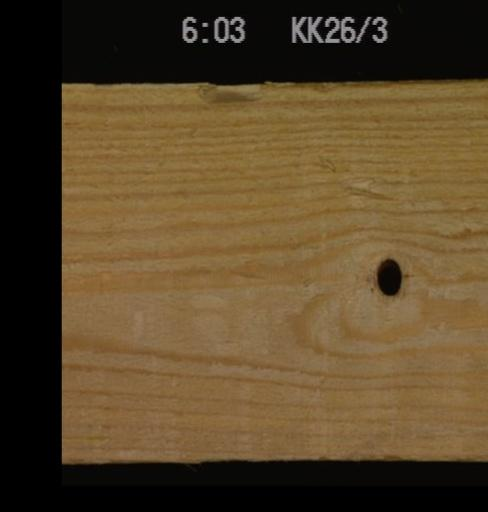wave: (190, 81, 270, 108)
